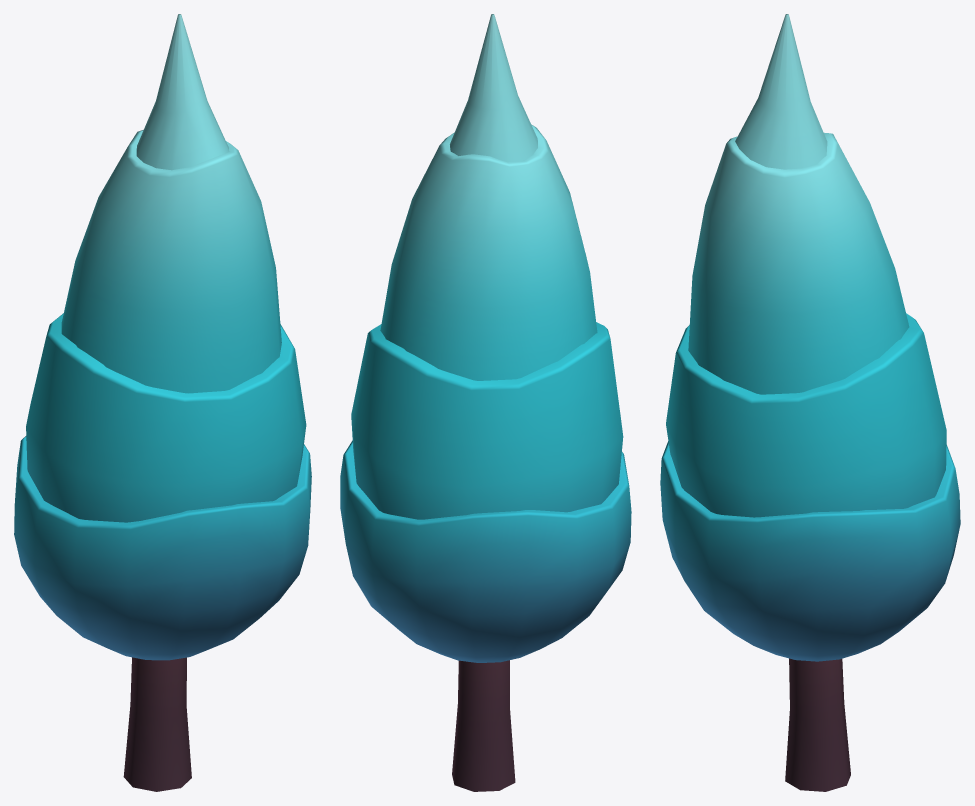
Rendered from prop_environment_tree02_2.fbx.
The picture shows the model from 3 angles, left to right: view 1: azimuth 30°, elevation 25°; view 2: azimuth 150°, elevation 25°; view 3: azimuth 270°, elevation 25°; orthographic projection. The views are drawn at different scales.
Parts seen in each view (by area): view 1: prop_environment_tree02_2; view 2: prop_environment_tree02_2; view 3: prop_environment_tree02_2.
Boxes of the visible parts, <box> form: prop_environment_tree02_2: <box>14,14,311,791</box>; prop_environment_tree02_2: <box>340,14,631,791</box>; prop_environment_tree02_2: <box>660,14,960,791</box>.
Size of the model in its own units: 202 by 571 by 203.
1 material, 1 textured.
